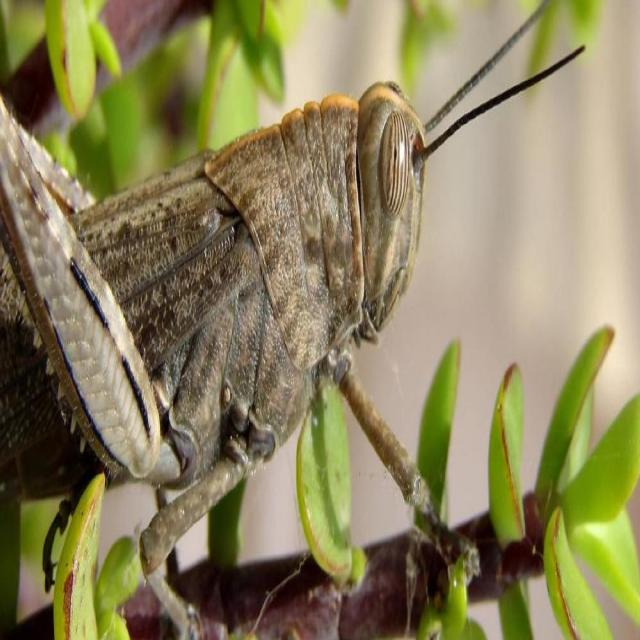ZhaMeng: (12, 15, 566, 580)
